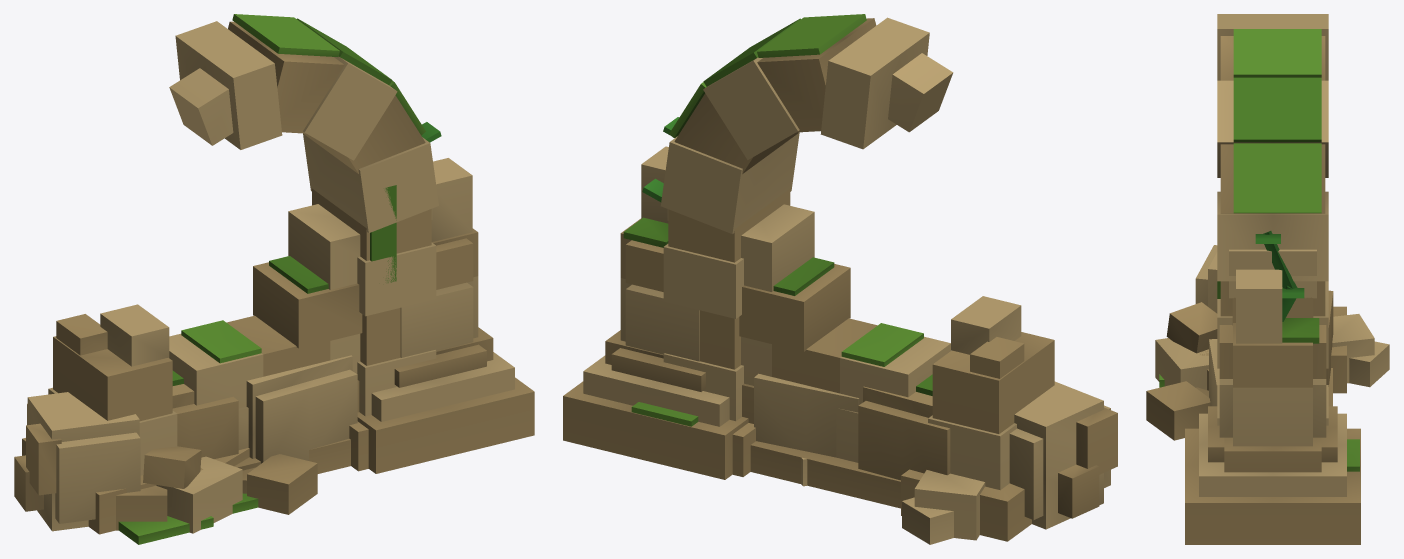
File: RuinsProps.fbx
3 views of the same model, side by side, from view 1: azimuth 30°, elevation 25°; view 2: azimuth 150°, elevation 25°; view 3: azimuth 270°, elevation 25° (orthographic). The views are drawn at different scales.
Parts seen in each view (by area): view 1: Archway, FallenColumn, RuinedWall; view 2: Archway, FallenColumn, RuinedWall; view 3: FallenColumn, Archway, RuinedWall.
Boxes of the visible parts, x1,y1,x2,y2 form: Archway: (22,14,441,534); FallenColumn: (14,158,534,544); RuinedWall: (116,185,432,533); Archway: (642,14,1054,541); FallenColumn: (563,146,1117,544); RuinedWall: (667,204,985,540); FallenColumn: (1146,245,1389,544); Archway: (1200,14,1346,425); RuinedWall: (1155,249,1374,406).
Size of the model in its own units: 11.34 by 9.73 by 5.25.
